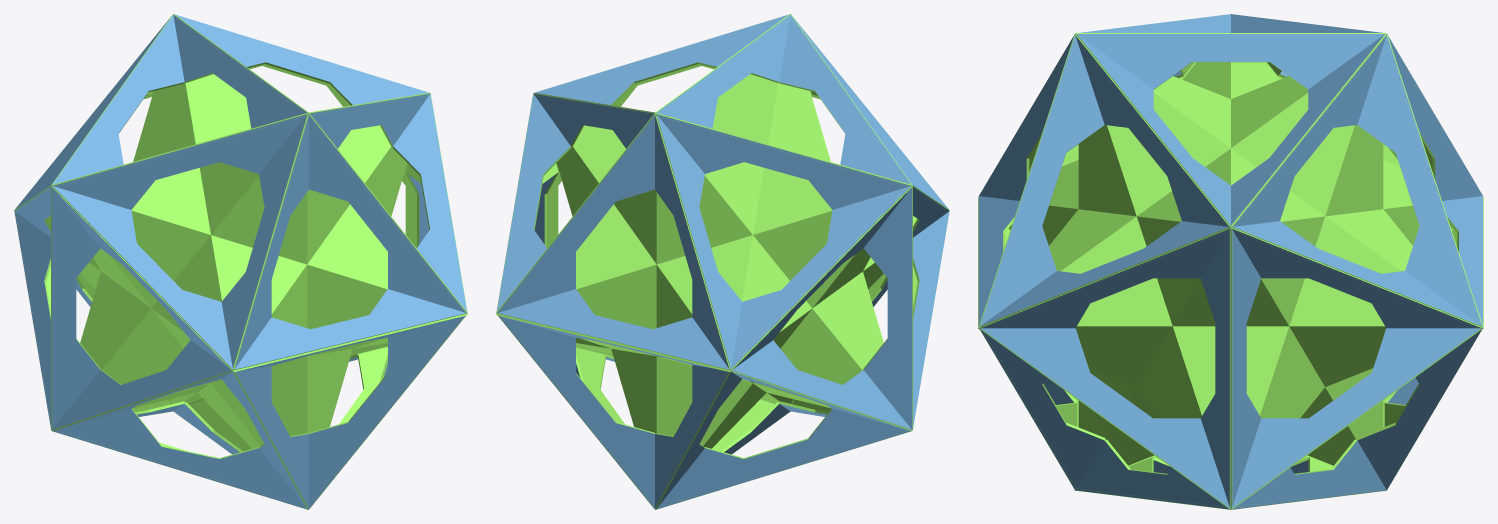
Rendered from GreatDodecahedronS.glb.
The picture shows the model from 3 angles, left to right: view 1: azimuth 30°, elevation 25°; view 2: azimuth 150°, elevation 25°; view 3: azimuth 270°, elevation 25°; orthographic projection. The views are drawn at different scales.
Parts seen in each view (by area): view 1: Mesh_0.003, Mesh_1.003; view 2: Mesh_0.003, Mesh_1.003; view 3: Mesh_0.003, Mesh_1.003.
Part boxes in pixels (x1=…): Mesh_0.003: x1=14, y1=14, x2=467, y2=509; Mesh_1.003: x1=46, y1=74, x2=406, y2=448; Mesh_0.003: x1=496, y1=14, x2=949, y2=509; Mesh_1.003: x1=557, y1=74, x2=917, y2=448; Mesh_0.003: x1=978, y1=14, x2=1483, y2=509; Mesh_1.003: x1=1009, y1=62, x2=1452, y2=465.
Size of the model in its own units: 8.26 by 8.26 by 8.27.
